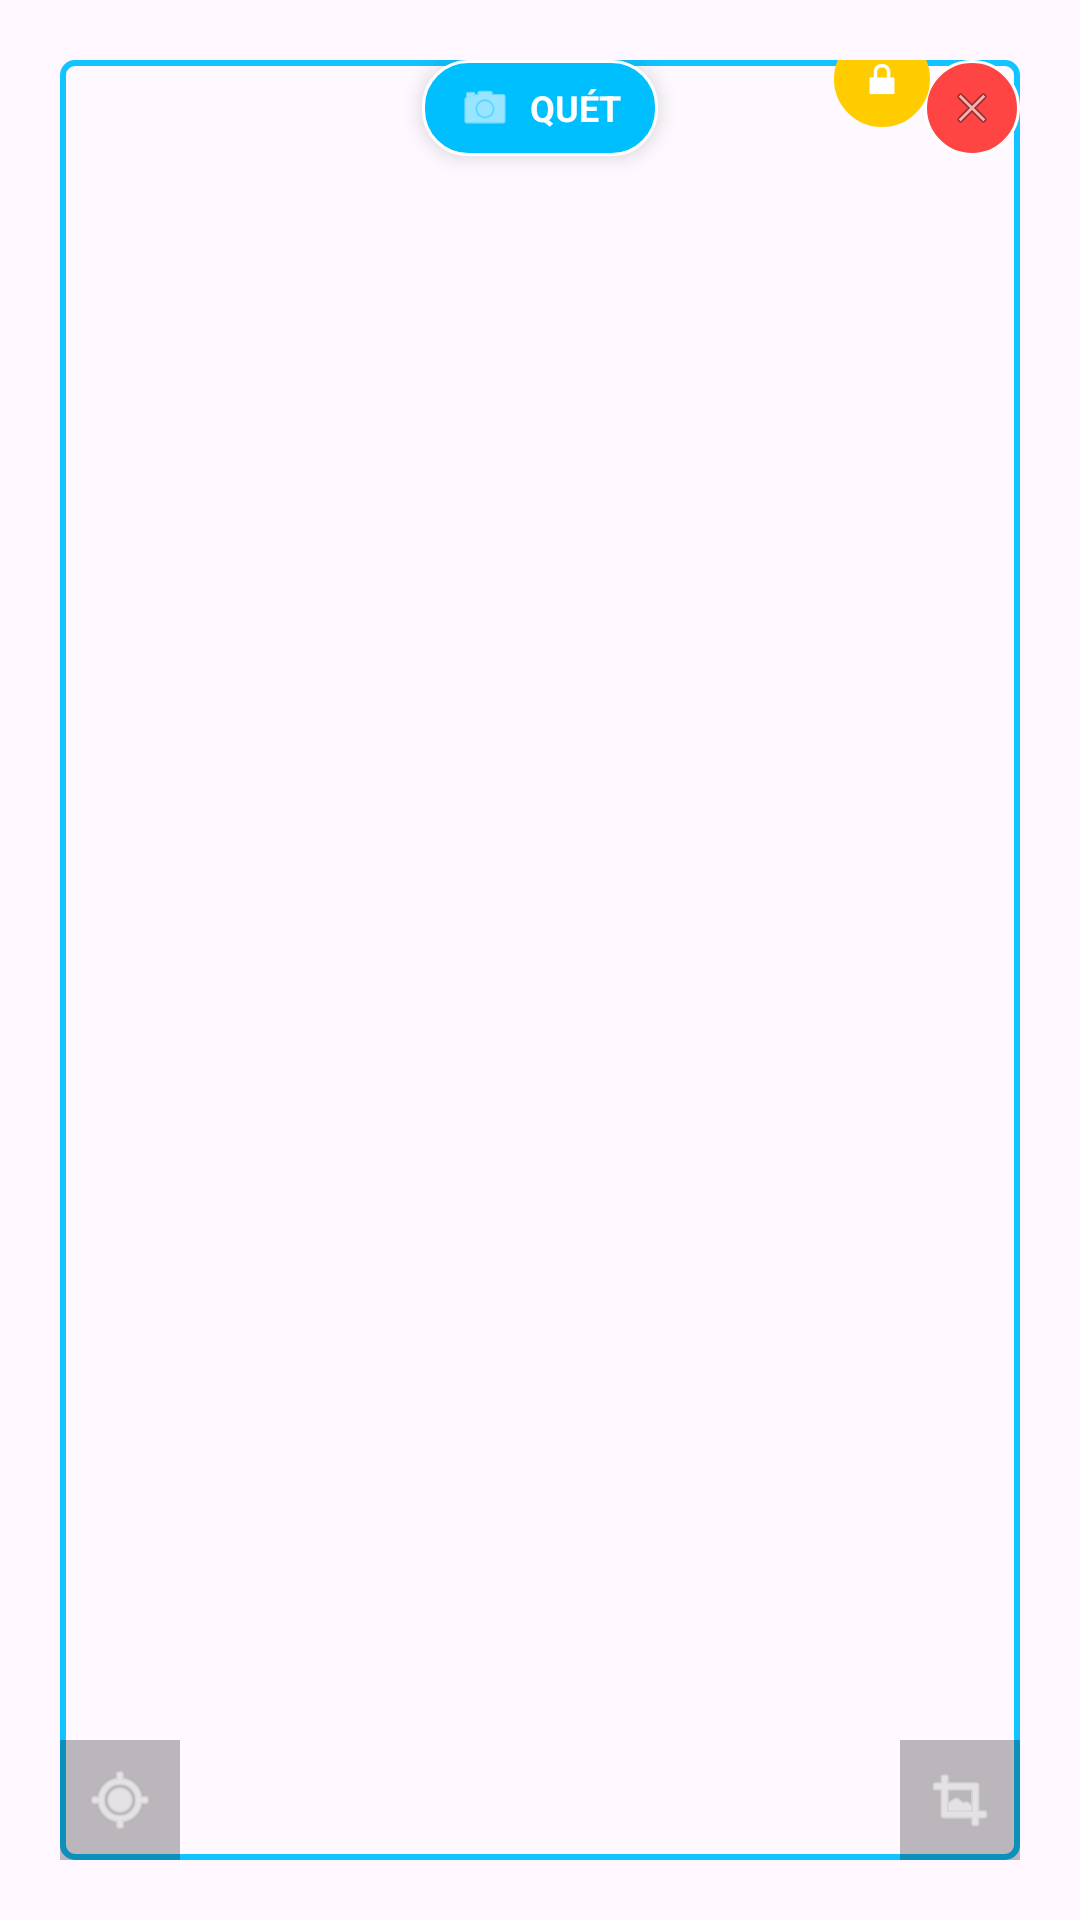

Icons on this 1080*1920 Android screen, each with its box as [x1=x1, y1=y1, x2=x2, y2=y2]:
camera: [x1=464, y1=90, x2=506, y2=124]
crop: [x1=900, y1=1740, x2=1020, y2=1860]
Giữ để di chuyển: [x1=60, y1=1740, x2=180, y2=1860]
Khóa vị trí: [x1=834, y1=60, x2=930, y2=127]
Đóng: [x1=924, y1=60, x2=1020, y2=156]
